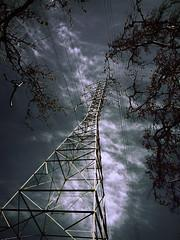power_tower: (0, 73, 118, 239)
